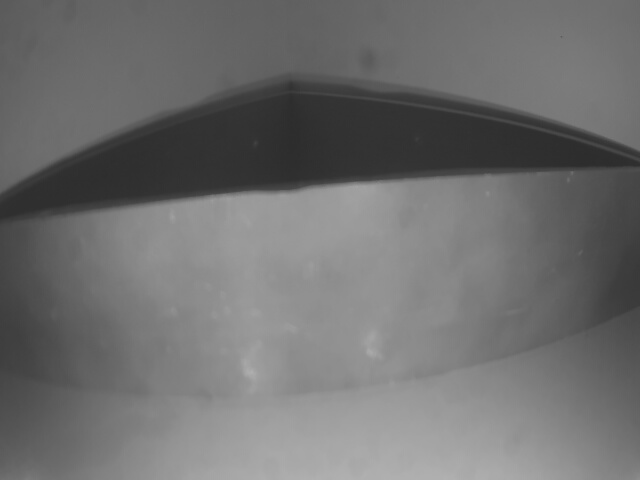Green: (0, 169, 639, 399)
